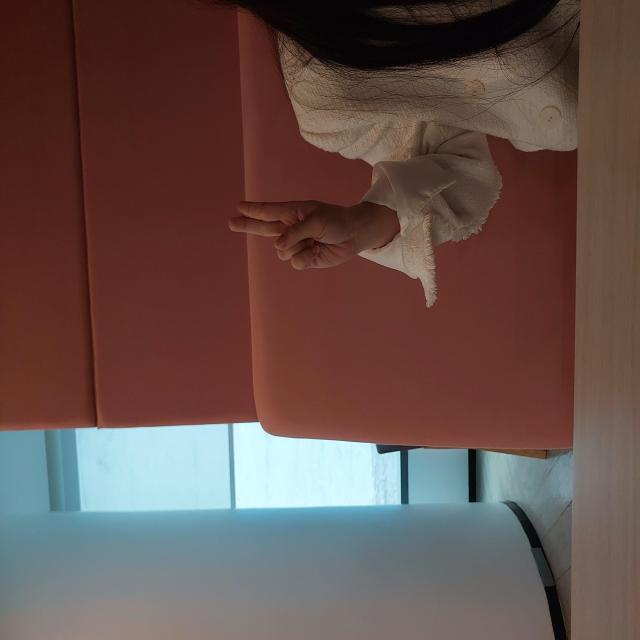U: (368, 227, 441, 357)
